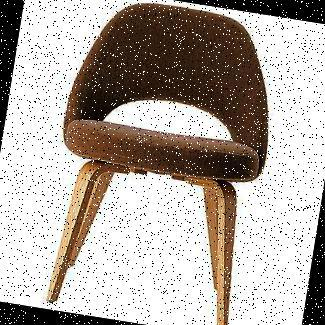Silla: (37, 0, 286, 324)
